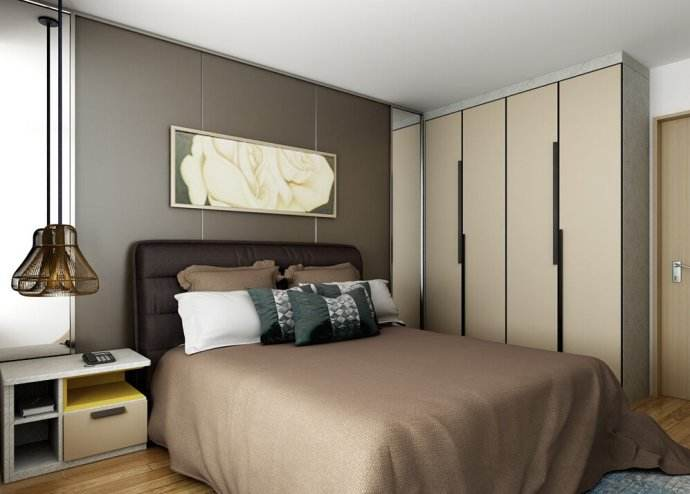床: (127, 319, 633, 490)
枕头: (176, 272, 395, 352)
灯: (11, 222, 95, 313)
